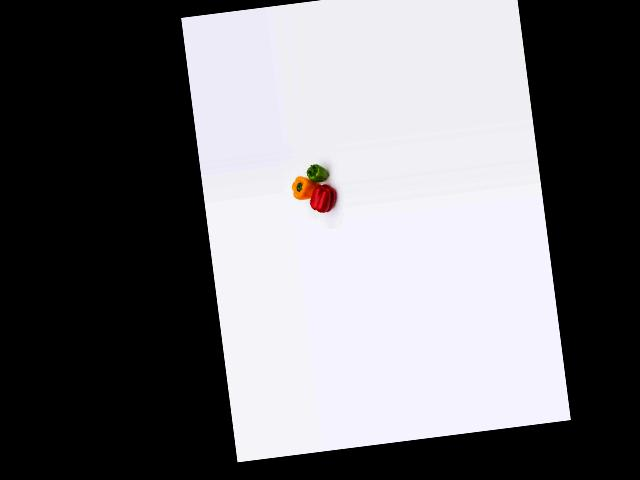bell_pepper: (303, 157, 330, 184)
